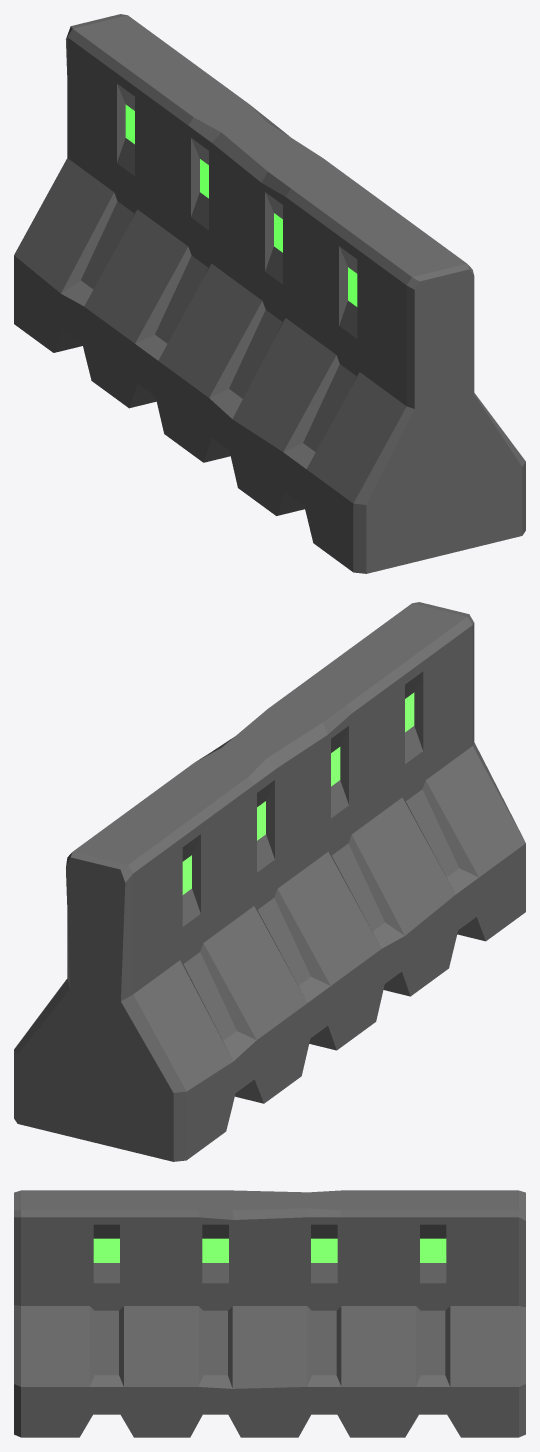
The model's file is wallA.fbx.
3 views of the same model, one above another, from view 1: azimuth 30°, elevation 25°; view 2: azimuth 150°, elevation 25°; view 3: azimuth 270°, elevation 25° (orthographic). The views are drawn at different scales.
Visible parts, largest first — view 1: SM_Prop_Barrier_Plastic_02; view 2: SM_Prop_Barrier_Plastic_02; view 3: SM_Prop_Barrier_Plastic_02.
Part boxes in pixels (x1=…): SM_Prop_Barrier_Plastic_02: x1=14, y1=14, x2=525, y2=573; SM_Prop_Barrier_Plastic_02: x1=14, y1=602, x2=525, y2=1161; SM_Prop_Barrier_Plastic_02: x1=14, y1=1190, x2=525, y2=1437.
Bounding box in the file's own units: 65.43 × 102 × 229.
